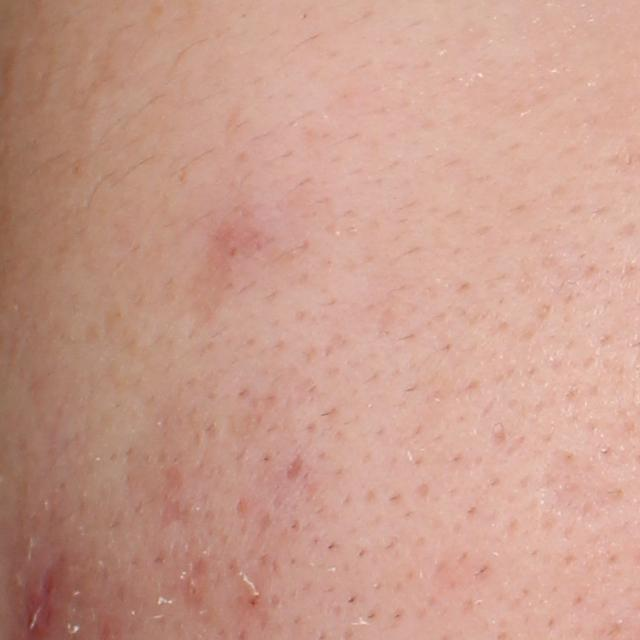atrophic_scar: (177, 556, 216, 627), (287, 451, 307, 484)
